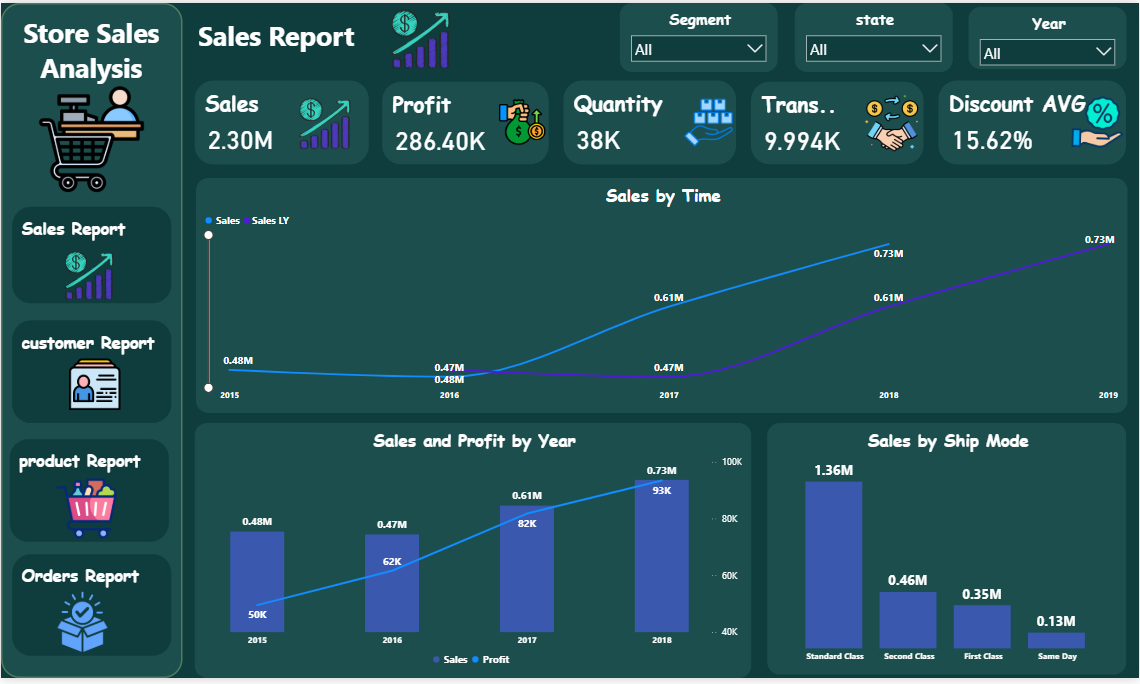

Layout of this report page (visuals, bound fields, positions):
{"tool":"powerbi","page":{"name":"sales","canvas":[1820,1080],"ordinal":0},"visuals":[{"type":"cardVisual","title":"Sales","fields":{"Data":["Sum(sales.Sales)"]},"box":[310,124,278,134],"z":0},{"type":"cardVisual","title":"Profit","fields":{"Data":["Sum(sales.Profit)"]},"box":[610,126,266,132],"z":1000},{"type":"cardVisual","title":"Discount AVG","fields":{"Data":["Avg(sales.Discount)"]},"box":[1500,124,300,134],"z":2000},{"type":"cardVisual","title":"Trans..","fields":{"Data":["CountNonNull(sales.Order ID)"]},"box":[1200,126,276,132],"z":3000},{"type":"textbox","box":[0,0,290,1080],"z":4000},{"type":"textbox","box":[310,0,1490,124],"z":5000},{"type":"image","box":[472,126,92,134],"z":6000},{"type":"cardVisual","title":"Quantity","fields":{"Data":["Sum(sales.Quantity)"]},"box":[900,124,276,134],"z":7000},{"type":"image","box":[0,126,290,184],"z":8000},{"type":"slicer","title":"Year","fields":{"Values":["date.Year","date.Quarter"]},"box":[1547.5,5,252.5,100],"z":9000},{"type":"slicer","title":"state","fields":{"Values":["customer.State"]},"box":[1270,0,252.5,110],"z":10000},{"type":"slicer","title":"Segment","fields":{"Values":["customer.Segment"]},"box":[990,0,252.5,110],"z":11000},{"type":"group","id":"g1","title":"Group 1","box":[18,882,254,162],"z":12000},{"type":"group","id":"g2","title":"Group 2","box":[14,698,254,164],"z":13000},{"type":"group","id":"g3","title":"Group 3","box":[18,508,254,164],"z":14000},{"type":"group","id":"g4","title":"Group 4","box":[0,326,282,154],"z":15000},{"type":"lineChart","title":"Sales by Time","fields":{"Y":["Sum(sales.Sales)","_Measures.Sales LY"],"Category":["date.Year","date.Month Name"]},"box":[312,280,1490,376],"z":16000},{"type":"image","box":[564,6,214,104],"z":17000},{"type":"clusteredColumnChart","title":" Sales by Ship Mode","fields":{"Category":["shiping.Ship Mode"],"Y":["Sum(sales.Sales)"]},"box":[1226,672,574,402],"z":18000},{"type":"textbox","box":[18,326,254,154],"z":19000,"group":"g4"},{"type":"lineClusteredColumnComboChart","fields":{"Y":["Sum(sales.Sales)"],"Category":["date.Year"],"Y2":["Sum(sales.Profit)"]},"box":[310,672,890,408],"z":19000},{"type":"image","box":[792,126,84,128],"z":20000},{"type":"textbox","box":[18,508,254,164],"z":20000,"group":"g3"},{"type":"image","box":[1088,124,88,134],"z":21000},{"type":"textbox","box":[14,698,254,164],"z":21000,"group":"g2"},{"type":"image","box":[1376,126,100,132],"z":22000},{"type":"textbox","box":[18,882,254,162],"z":22000,"group":"g1"},{"type":"image","box":[1708,126,92,128],"z":23000},{"type":"image","box":[0,392,282,88],"z":26000,"group":"g4"},{"type":"image","box":[32,564,236,92],"z":27000,"group":"g3"},{"type":"image","box":[18,936,224,108],"z":27001,"group":"g1"},{"type":"image","box":[32,756,210,106],"z":27003,"group":"g2"}]}

Visuals, with their boxes in screenshot pixels (x1, y1, x2, y2), scaled from the page's 1820x1080 canvas onto the 1140x684 screenshot:
"Sales" cardVisual: locate(194, 79, 368, 163)
"Profit" cardVisual: locate(382, 80, 549, 163)
"Discount AVG" cardVisual: locate(940, 79, 1127, 163)
"Trans.." cardVisual: locate(752, 80, 925, 163)
textbox: locate(0, 0, 182, 683)
textbox: locate(194, 0, 1127, 79)
image: locate(296, 80, 353, 165)
"Quantity" cardVisual: locate(564, 79, 737, 163)
image: locate(0, 80, 182, 196)
"Year" slicer: locate(969, 3, 1127, 66)
"state" slicer: locate(795, 0, 954, 70)
"Segment" slicer: locate(620, 0, 778, 70)
"Group 1" group: locate(11, 559, 170, 661)
"Group 2" group: locate(9, 442, 168, 546)
"Group 3" group: locate(11, 322, 170, 426)
"Group 4" group: locate(0, 206, 177, 304)
"Sales by Time" lineChart: locate(195, 177, 1129, 415)
image: locate(353, 4, 487, 70)
" Sales by Ship Mode" clusteredColumnChart: locate(768, 426, 1127, 680)
textbox: locate(11, 206, 170, 304)
lineClusteredColumnComboChart - Sum(sales.Sales) x date.Year: locate(194, 426, 752, 683)
image: locate(496, 80, 549, 161)
textbox: locate(11, 322, 170, 426)
image: locate(681, 79, 737, 163)
textbox: locate(9, 442, 168, 546)
image: locate(862, 80, 925, 163)
textbox: locate(11, 559, 170, 661)
image: locate(1070, 80, 1127, 161)
image: locate(0, 248, 177, 304)
image: locate(20, 357, 168, 415)
image: locate(11, 593, 152, 661)
image: locate(20, 479, 152, 546)
